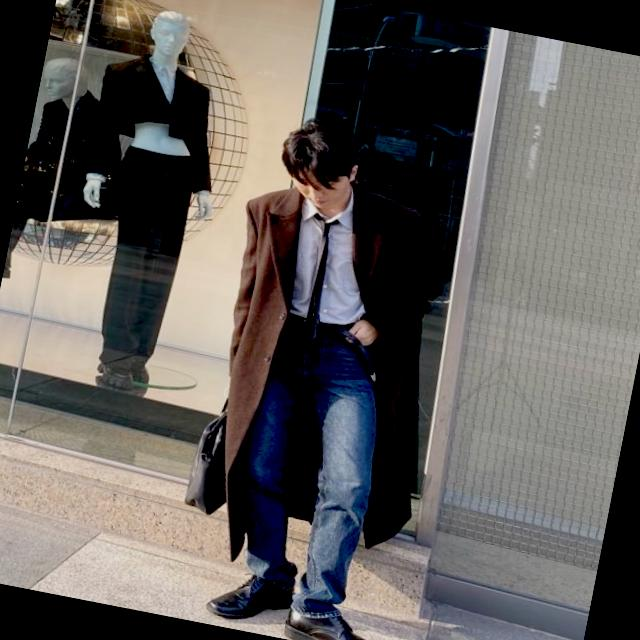coat: (178, 166, 469, 591)
denimpants: (214, 306, 400, 624)
